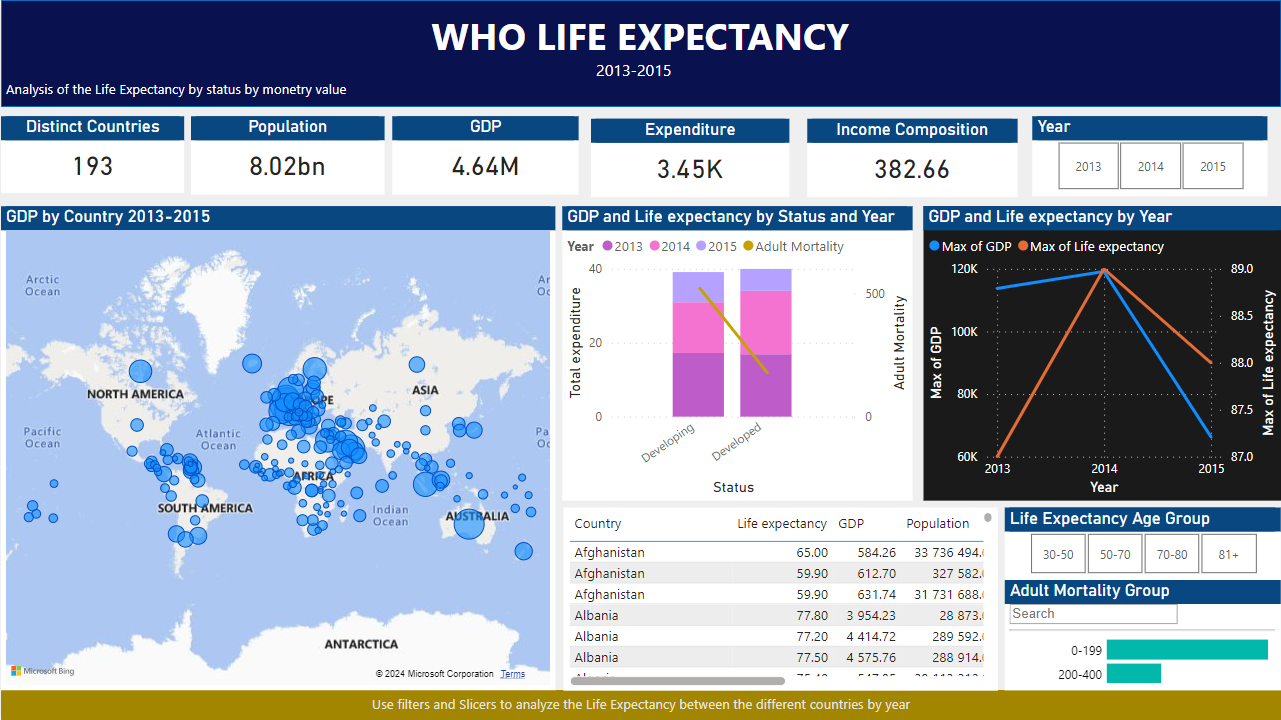

This screenshot's page, from the dashboard's own definition file:
{"tool":"powerbi","page":{"name":"Monetry","canvas":[1280,720],"ordinal":2},"visuals":[{"type":"lineChart","title":" GDP and Life expectancy  by Year","fields":{"Category":["Sheet1.Year"],"Y":["Max(Sheet1.GDP)"],"Y2":["Max(Sheet1.Life expectancy )"]},"box":[922.5,205.8,357.5,294.2],"z":0},{"type":"lineStackedColumnComboChart","title":"GDP and Life expectancy  by Status and Year","fields":{"Category":["Sheet1.Status"],"Series":["Sheet1.Year"],"Y":["Max(Sheet1.Total expenditure)"],"Y2":["Max(Sheet1.Adult Mortality)"]},"box":[560.8,205.8,350,294.2],"z":1000},{"type":"shape","box":[0,0,1280.2,107],"z":2000},{"type":"textbox","box":[403.5,4.7,470.9,70.9],"z":3000},{"type":"textbox","box":[0,75.6,534.9,40.7],"z":4000},{"type":"textbox","box":[589.5,53.5,223.3,34.9],"z":5000},{"type":"card","title":"Distinct Countries","fields":{"Values":["Count(Sheet1.Country)"]},"box":[0,116.7,183.3,76.7],"z":6000},{"type":"card","title":"Population","fields":{"Values":["Sum(Sheet1.Population)"]},"box":[190,116.7,193.3,78.3],"z":7000},{"type":"card","title":"GDP","fields":{"Values":["Sum(Sheet1.GDP)"]},"box":[391.7,116.7,186.7,78.3],"z":8000},{"type":"card","title":"Expenditure","fields":{"Values":["Sum(Sheet1.Total expenditure)"]},"box":[590,118.3,198.3,78.3],"z":9000},{"type":"card","title":"Income Composition","fields":{"Values":["Sum(Sheet1.Income composition of resources)"]},"box":[806.7,118.3,210,78.3],"z":10000},{"type":"textbox","box":[0,689.5,1280.2,30.2],"z":11000},{"type":"map","title":"GDP by Country 2013-2015","fields":{"Category":["Sheet1.Country"],"Size":["Sum(Sheet1.GDP)"]},"box":[0,205.8,554.2,484.2],"z":12000},{"type":"tableEx","fields":{"Values":["Sheet1.Country","Sheet1.Life expectancy ","Sheet1.GDP","Sheet1.Population","Sheet1.Total expenditure","Sheet1.Income composition of resources","Sheet1.Year"]},"box":[562,507,434,183],"z":13000},{"type":"slicer","title":"Year","fields":{"Values":["Sheet1.Year"]},"box":[1031.7,116.7,235,80],"z":14000},{"type":"slicer","title":"Life Expectancy Age Group","fields":{"Values":["Sheet1.LifeExp_Groups"]},"box":[1004.3,507.1,275.7,72.9],"z":15000},{"type":"AttributeSlicer1652434005853","title":"Adult Mortality Group","fields":{"Category":["Sheet1.Adult_Mortality_Groups"],"Values":["CountNonNull(Sheet1.Adult_Mortality_Groups)"]},"box":[1004.3,580,275.7,110],"z":16000}]}

Visuals, with their boxes in screenshot pixels (x1, y1, x2, y2), scaled from the page's 1280x720 canvas onto the 1281x720 screenshot:
" GDP and Life expectancy  by Year" lineChart: 923,206,1280,500
"GDP and Life expectancy  by Status and Year" lineStackedColumnComboChart: 561,206,912,500
shape: 0,0,1280,107
textbox: 404,5,875,76
textbox: 0,76,535,116
textbox: 590,54,813,88
"Distinct Countries" card: 0,117,183,193
"Population" card: 190,117,384,195
"GDP" card: 392,117,579,195
"Expenditure" card: 590,118,789,197
"Income Composition" card: 807,118,1017,197
textbox: 0,690,1280,719
"GDP by Country 2013-2015" map: 0,206,555,690
tableEx - Sheet1.Country x Sheet1.Life expectancy : 562,507,997,690
"Year" slicer: 1033,117,1268,197
"Life Expectancy Age Group" slicer: 1005,507,1280,580
"Adult Mortality Group" AttributeSlicer1652434005853: 1005,580,1280,690
